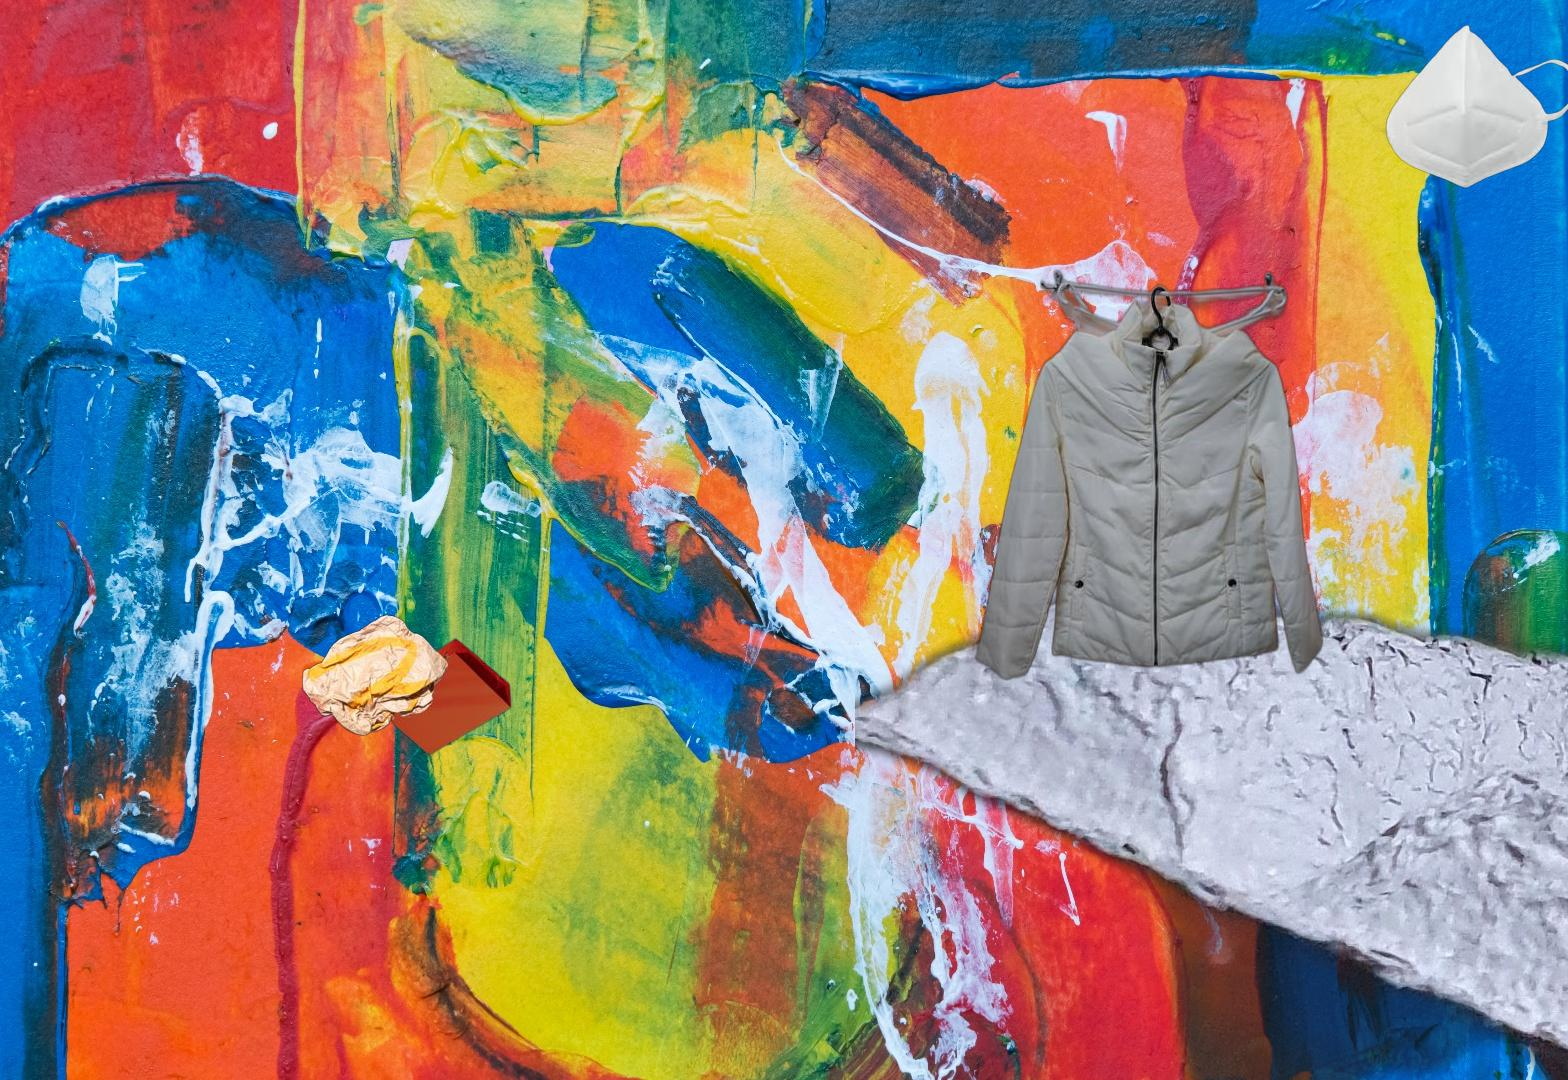clothes: (973, 264, 1327, 687)
paper-bag: (301, 614, 512, 765)
trash: (1355, 22, 1568, 191)
trashbox-cardboard: (855, 560, 1568, 1080)
